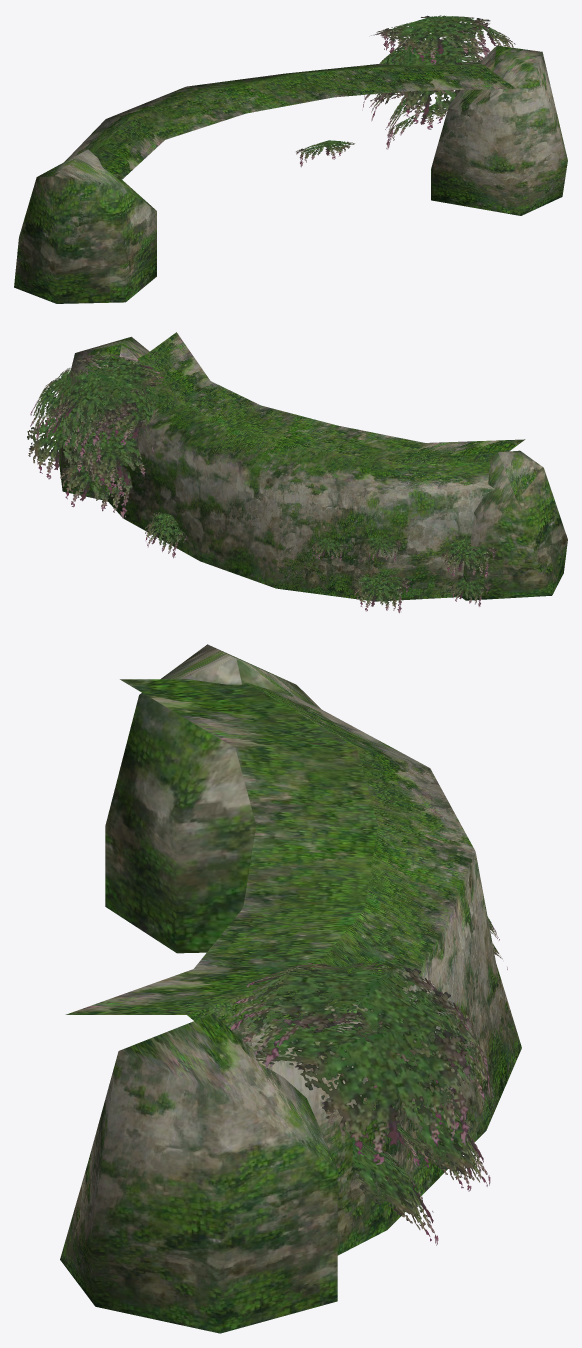
Rendered from cj_graveyard_stonewall02.glb.
The picture shows the model from 3 angles, top to bottom: view 1: azimuth 30°, elevation 25°; view 2: azimuth 150°, elevation 25°; view 3: azimuth 270°, elevation 25°; orthographic projection. The views are drawn at different scales.
Parts seen in each view (by area): view 1: cj_graveyard_stonewall02, cj_graveyard_stonewall02_grass02; view 2: cj_graveyard_stonewall02, cj_graveyard_stonewall02_grass02; view 3: cj_graveyard_stonewall02, cj_graveyard_stonewall02_grass02.
Part boxes in pixels (x1,y1,x2,y2): cj_graveyard_stonewall02: (14, 45, 567, 303); cj_graveyard_stonewall02_grass02: (296, 15, 515, 167); cj_graveyard_stonewall02: (59, 332, 567, 601); cj_graveyard_stonewall02_grass02: (27, 353, 497, 613); cj_graveyard_stonewall02: (60, 644, 521, 1333); cj_graveyard_stonewall02_grass02: (230, 917, 507, 1245).
Bounding box in the file's own units: 24.89 × 6.81 × 9.85.
2 materials, 2 textured.
